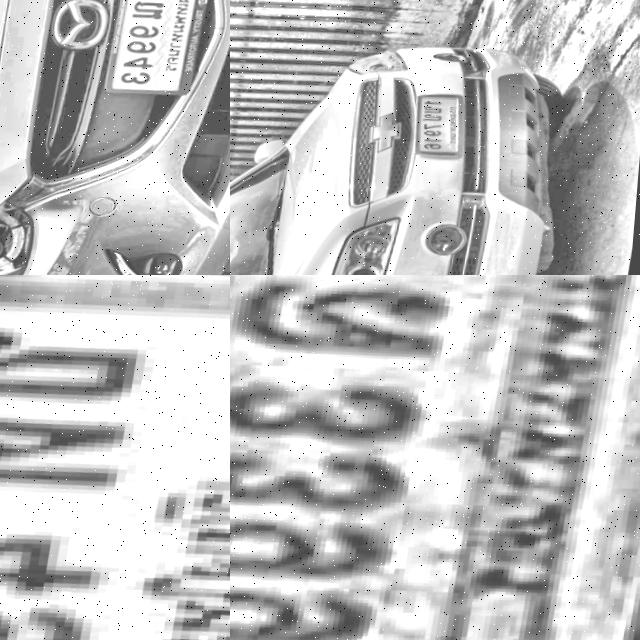license-plate: (230, 275, 640, 640), (0, 275, 230, 640), (103, 0, 230, 107), (408, 92, 478, 166)
